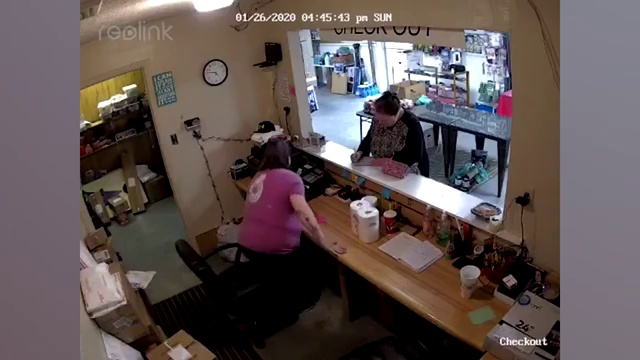face: (378, 109, 397, 127)
